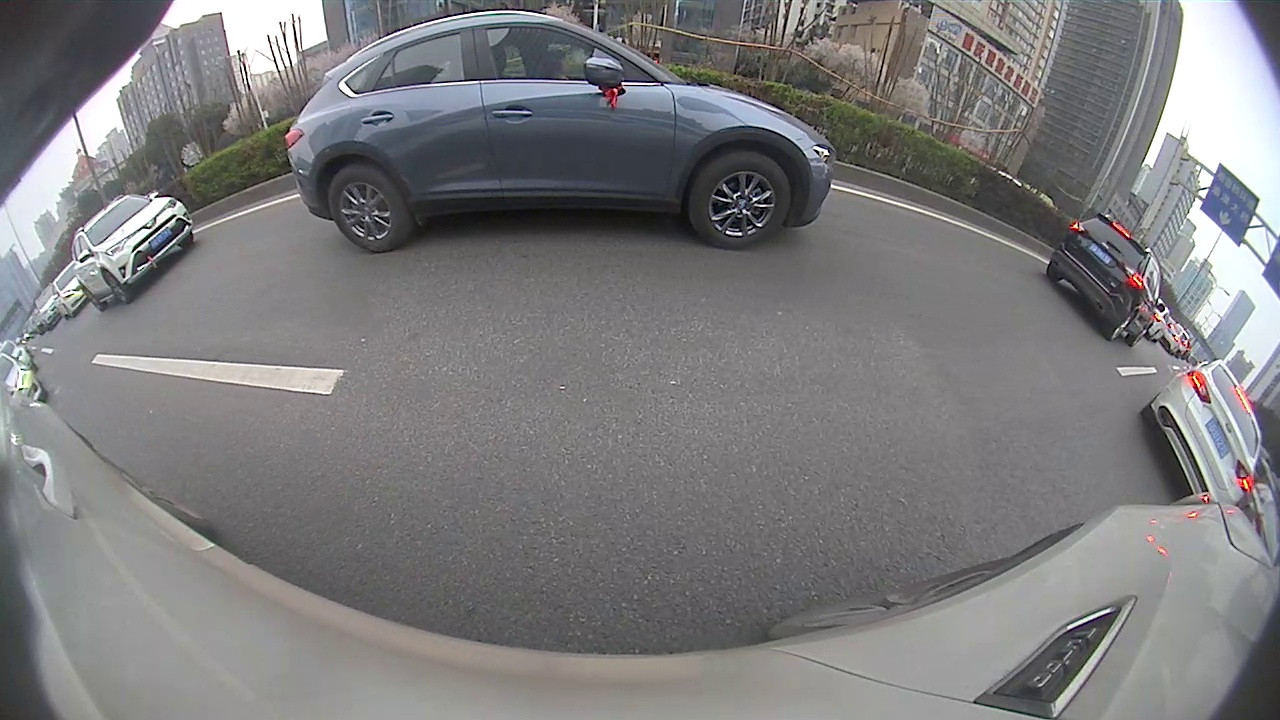car: (284, 8, 838, 255), (1141, 359, 1263, 511), (1047, 213, 1168, 350), (71, 192, 196, 312)
front: (692, 150, 792, 251), (100, 269, 126, 303)
rear: (330, 162, 412, 252)
